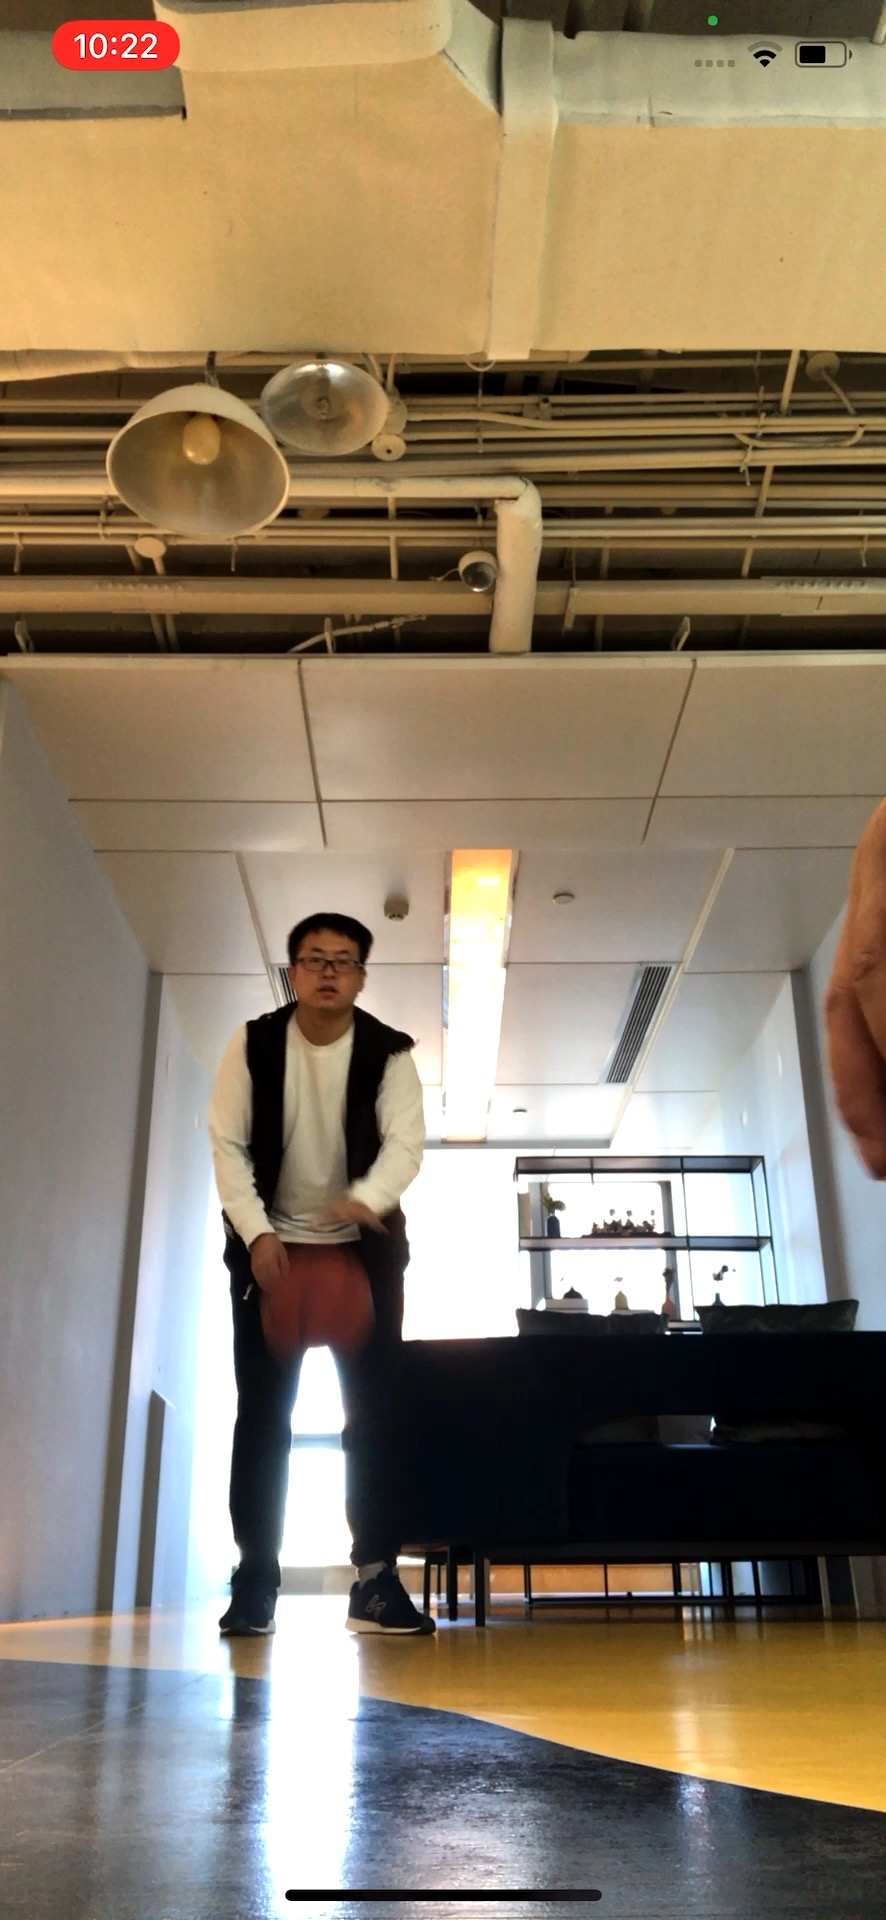ball: (267, 1251, 372, 1357)
